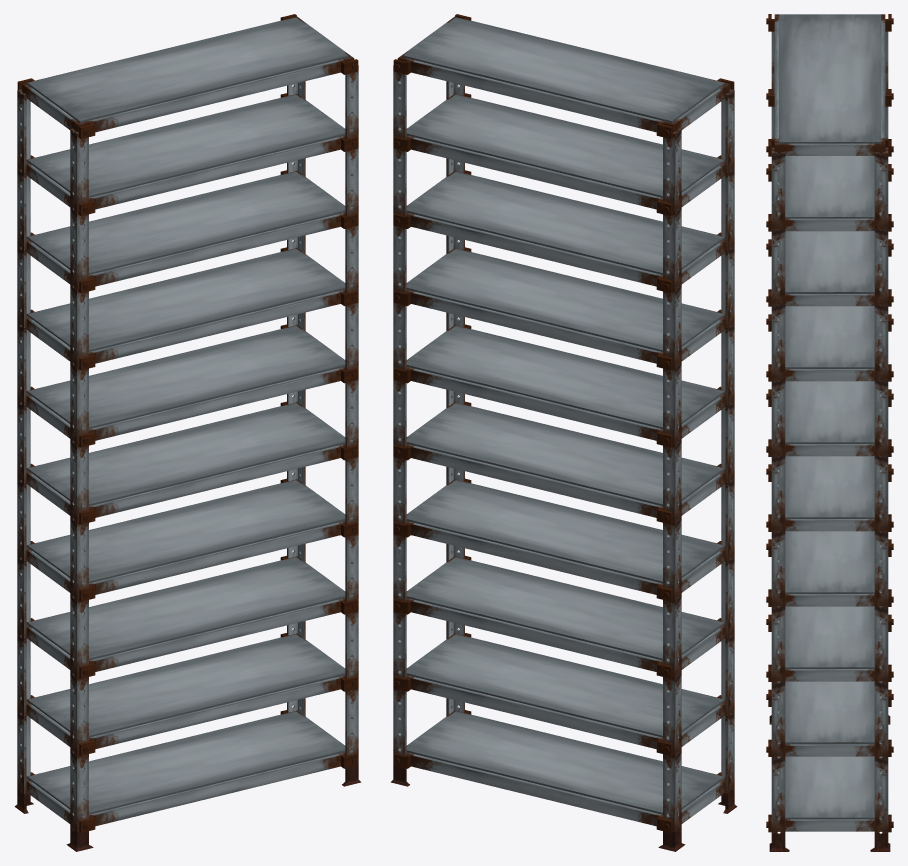
File: SHELF 10.fbx
The picture shows the model from 3 angles, left to right: view 1: azimuth 30°, elevation 25°; view 2: azimuth 150°, elevation 25°; view 3: azimuth 270°, elevation 25°; orthographic projection. The views are drawn at different scales.
Parts seen in each view (by area): view 1: Shelf, ShelfStrut, ShelfFoot; view 2: Shelf, ShelfStrut, ShelfFoot; view 3: Shelf, ShelfStrut, ShelfFoot.
Part boxes in pixels (<box>): Shelf: <box>17,14,358,832</box>; ShelfStrut: <box>17,65,358,832</box>; ShelfFoot: <box>14,764,361,851</box>; Shelf: <box>393,14,734,832</box>; ShelfStrut: <box>393,65,734,832</box>; ShelfFoot: <box>390,764,737,851</box>; Shelf: <box>766,14,893,832</box>; ShelfStrut: <box>771,31,888,833</box>; ShelfFoot: <box>769,715,890,851</box>.
Size of the model in its own units: 384 by 934 by 152.
